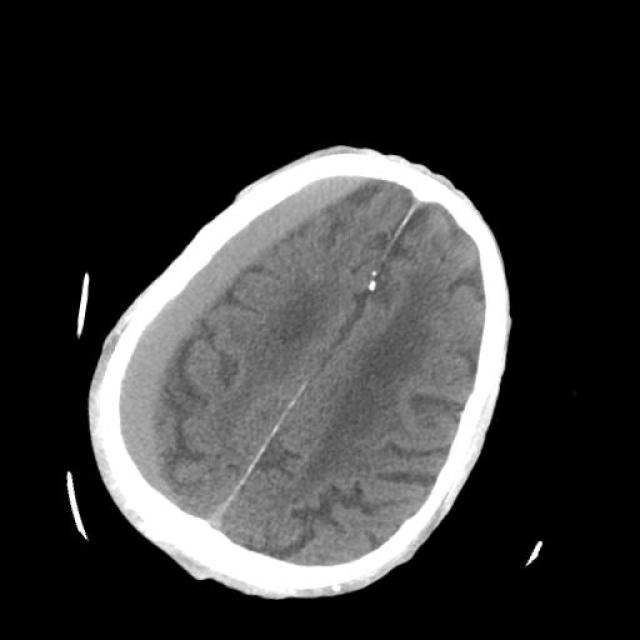Subdural: (58, 65, 382, 571)
